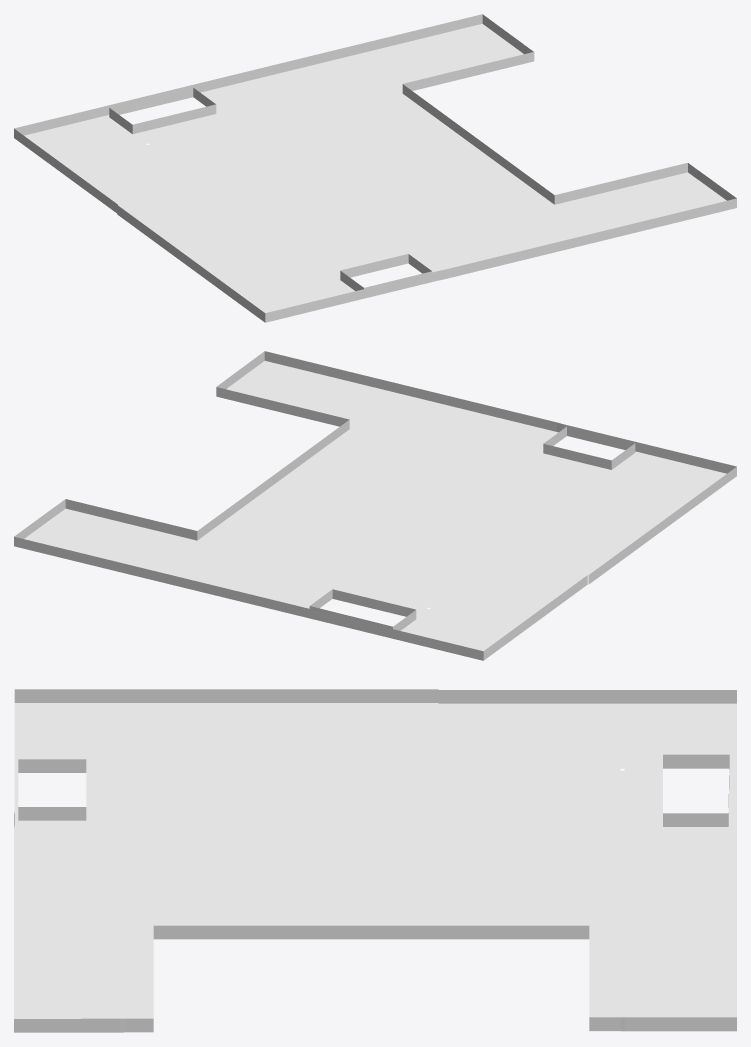
The model's file is celing_3f.fbx.
The picture shows the model from 3 angles, top to bottom: view 1: azimuth 30°, elevation 25°; view 2: azimuth 150°, elevation 25°; view 3: azimuth 270°, elevation 25°; orthographic projection. The views are drawn at different scales.
Visible parts, largest first — view 1: celing_3f; view 2: celing_3f; view 3: celing_3f.
Boxes of the visible parts, left/top/right/bottom form: celing_3f: left=14, top=14, right=736, bottom=322; celing_3f: left=14, top=351, right=736, bottom=660; celing_3f: left=14, top=689, right=736, bottom=1032.
Bounding box in the file's own units: 0.4986 × 0.00972 × 0.4622.
1 material, 1 textured.
